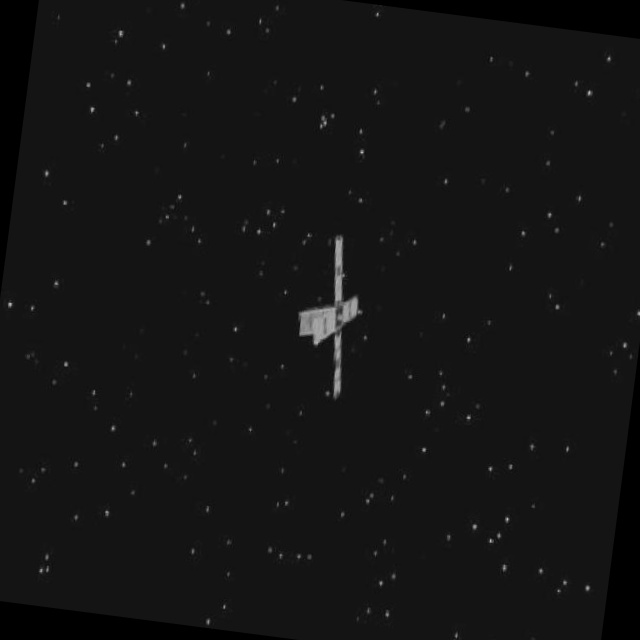medium_debris: (284, 207, 383, 405)
